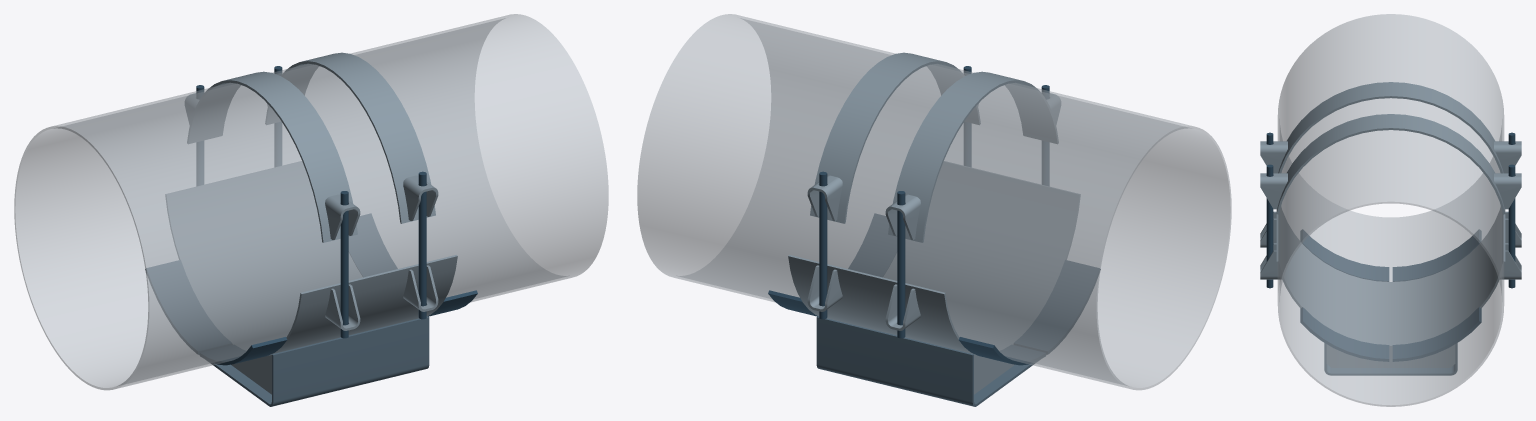
File: TS-671.00.00-22-opora-dn1020-H150.glb
3 renders of one model, left to right at view 1: azimuth 30°, elevation 25°; view 2: azimuth 150°, elevation 25°; view 3: azimuth 270°, elevation 25°, orthographic. The views are drawn at different scales.
Visible parts, largest first — view 1: truba, podushka_0, skoba_1, bugel_podushka_-1_0, bugel_podushka_1_0, upor_-1_1, upor_1_1, upor_-1_-1, shpilka_1_-1, shpilka_-1_-1, bugel_ushko_1_2, bugel_ushko_-1_2 (+4 smaller); view 2: truba, podushka_0, skoba_1, bugel_podushka_-1_0, bugel_podushka_1_0, upor_-1_-1, upor_1_-1, upor_-1_1, shpilka_1_1, shpilka_-1_1, bugel_ushko_1_1, bugel_ushko_-1_1 (+4 smaller); view 3: truba, podushka_0, bugel_podushka_1_0, bugel_podushka_-1_0, rebro_6, upor_1_1, upor_1_-1, upor_-1_1, upor_-1_-1, skoba_1, bugel_ushko_1_1, bugel_ushko_1_2 (+8 smaller).
Boxes of the visible parts, x1,y1,x2,y2 form: truba: [14, 14, 608, 390]; podushka_0: [165, 161, 457, 355]; skoba_1: [209, 316, 429, 406]; bugel_podushka_-1_0: [187, 71, 357, 242]; bugel_podushka_1_0: [265, 52, 435, 223]; upor_-1_1: [145, 260, 231, 354]; upor_1_1: [349, 214, 397, 276]; upor_-1_-1: [200, 337, 287, 365]; shpilka_1_-1: [418, 171, 426, 319]; shpilka_-1_-1: [340, 191, 348, 338]; bugel_ushko_1_2: [403, 175, 438, 220]; bugel_ushko_-1_2: [325, 194, 360, 239]; truba: [637, 14, 1231, 390]; podushka_0: [788, 161, 1080, 355]; skoba_1: [816, 316, 1036, 406]; bugel_podushka_-1_0: [888, 71, 1058, 242]; bugel_podushka_1_0: [810, 52, 980, 223]; upor_-1_-1: [1014, 260, 1100, 354]; upor_1_-1: [848, 214, 896, 276]; upor_-1_1: [958, 337, 1045, 365]; shpilka_1_1: [819, 171, 827, 319]; shpilka_-1_1: [897, 191, 905, 338]; bugel_ushko_1_1: [807, 175, 842, 220]; bugel_ushko_-1_1: [885, 194, 920, 239]; truba: [1277, 14, 1504, 406]; podushka_0: [1276, 208, 1505, 347]; bugel_podushka_1_0: [1276, 114, 1505, 214]; bugel_podushka_-1_0: [1278, 82, 1503, 173]; rebro_6: [1326, 344, 1455, 367]; upor_1_1: [1392, 307, 1481, 361]; upor_1_-1: [1300, 307, 1389, 361]; upor_-1_1: [1392, 229, 1481, 281]; upor_-1_-1: [1300, 229, 1389, 281]; skoba_1: [1324, 343, 1457, 375]; bugel_ushko_1_1: [1494, 173, 1521, 209]; bugel_ushko_1_2: [1260, 173, 1287, 209].
Size of the model in its own units: 2000 by 1185 by 1177.
